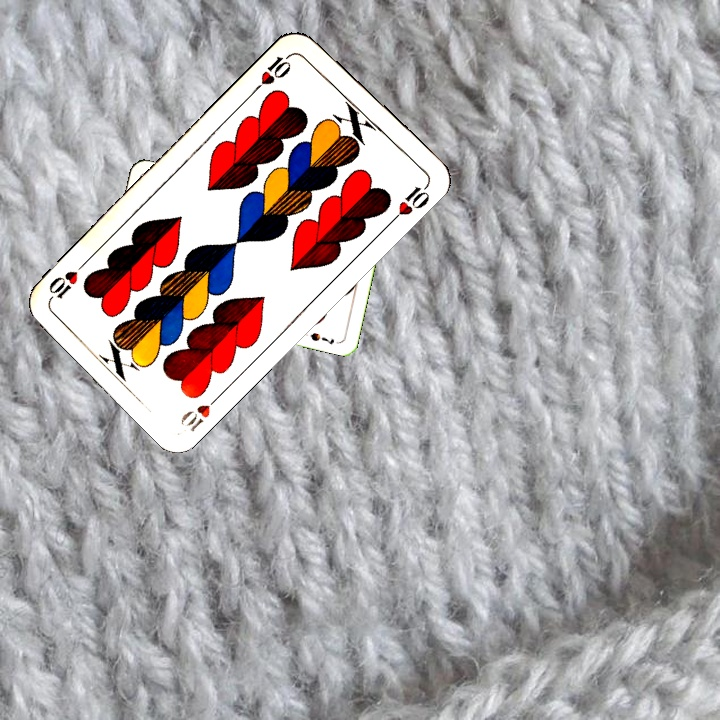H10: (175, 388, 226, 435), (250, 48, 297, 94)
